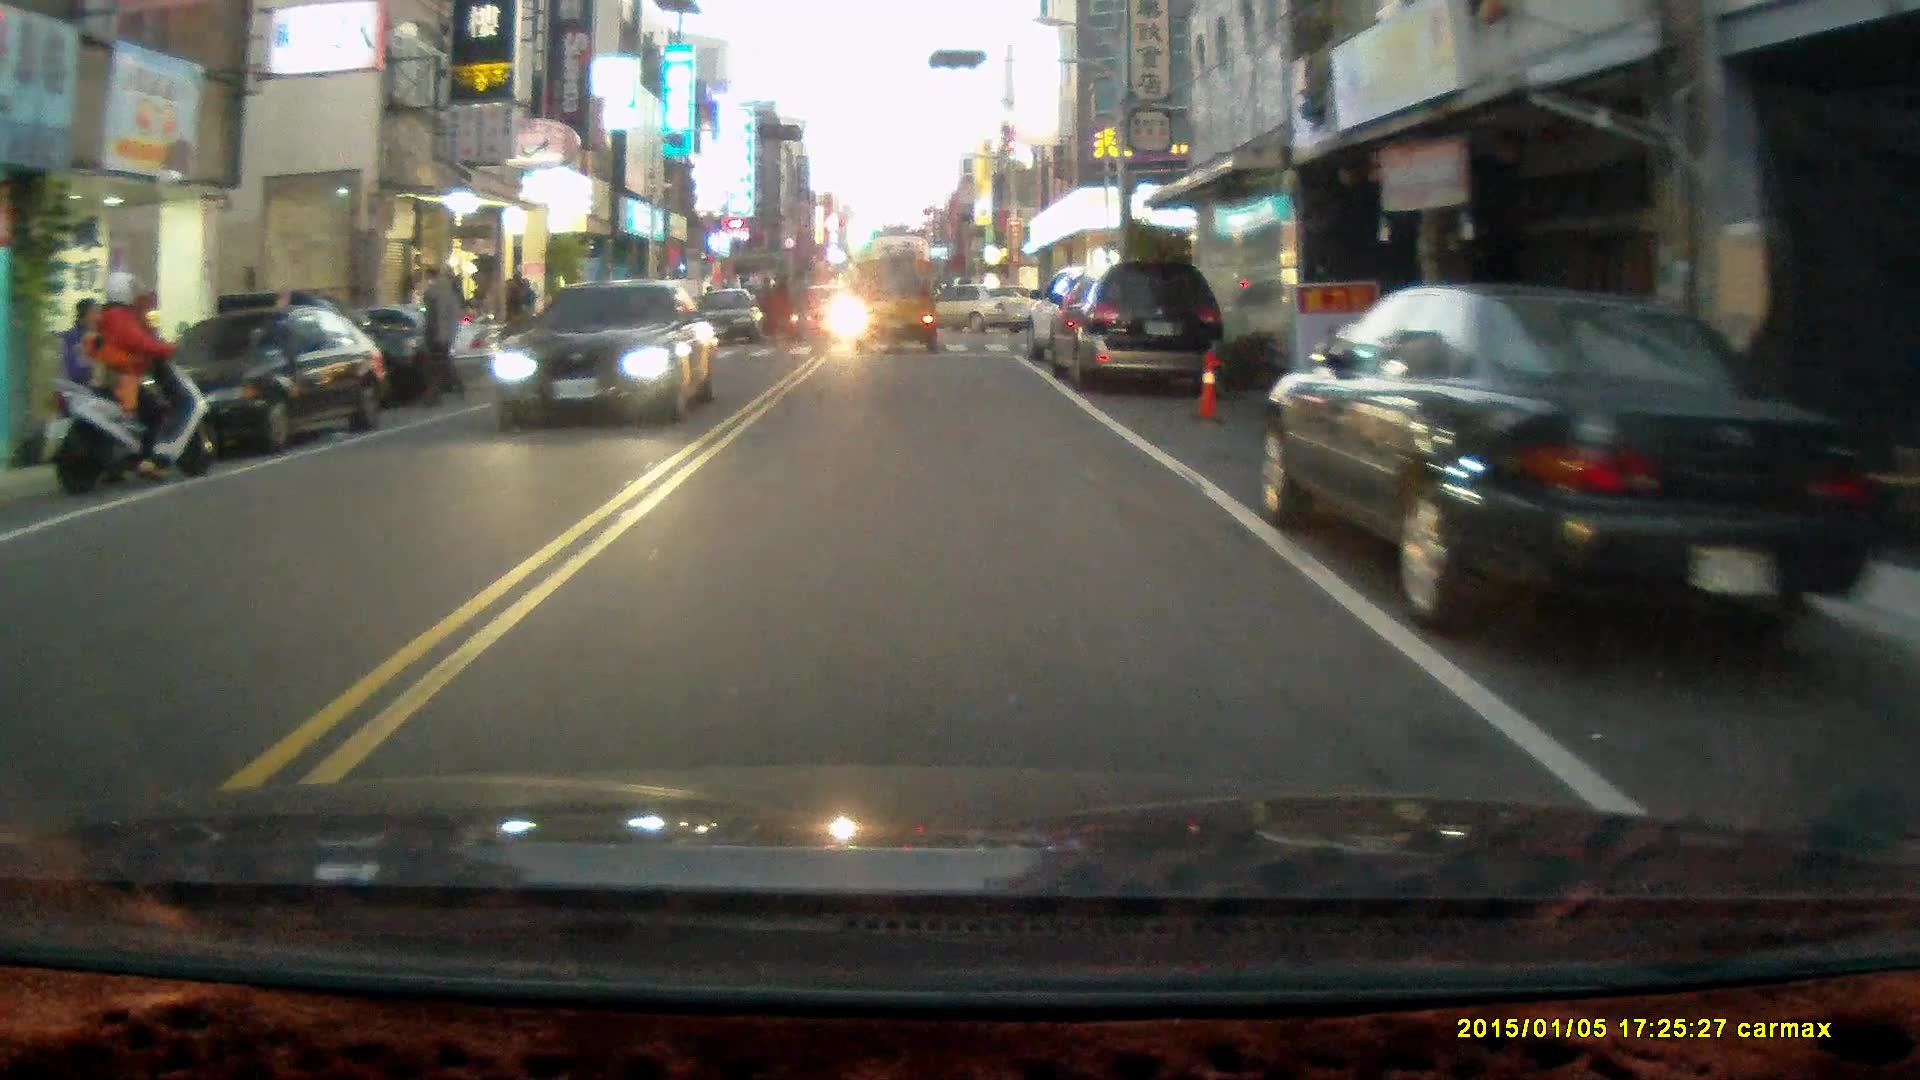pedestrian: (414, 263, 463, 409)
rider: (50, 268, 213, 495)
vehicle: (1261, 279, 1877, 638), (148, 307, 387, 463), (493, 279, 722, 427), (1041, 259, 1226, 393), (255, 300, 509, 394), (855, 259, 941, 354), (902, 281, 1038, 339)
